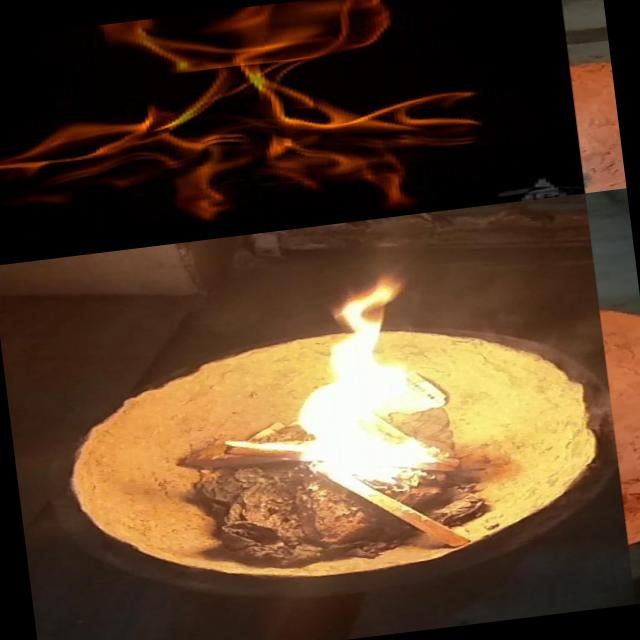fire: (0, 0, 499, 258), (282, 260, 474, 487)
